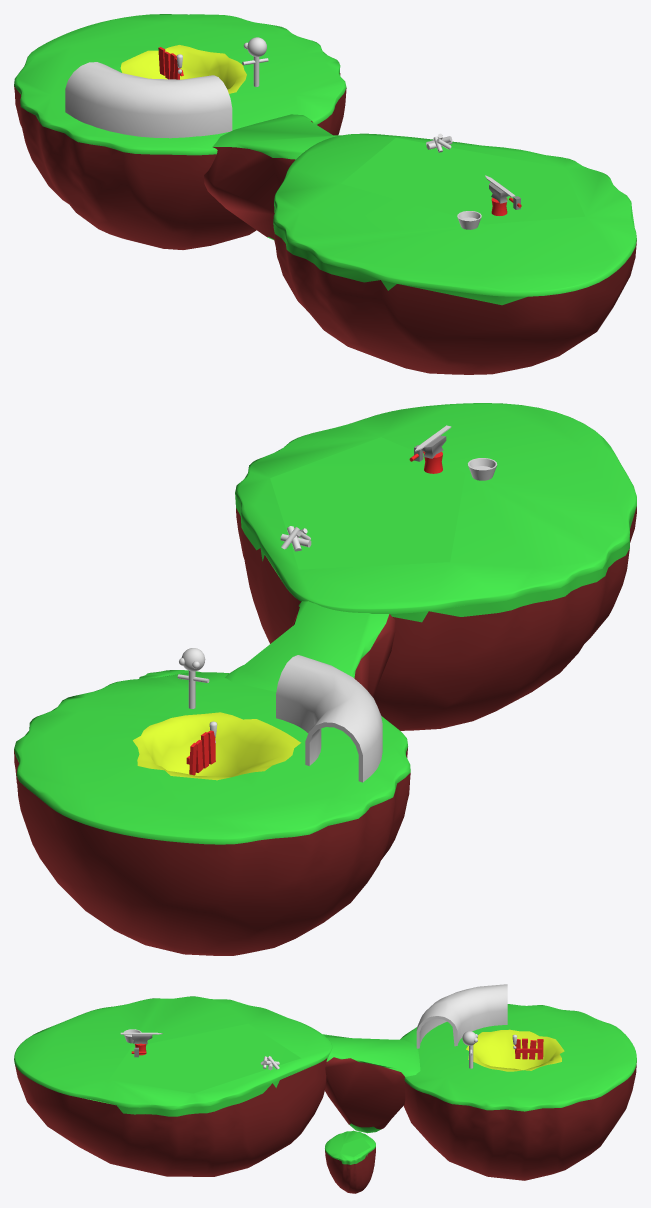
The model's file is KnotDemo_island.fbx.
3 views of the same model, one above another, from view 1: azimuth 30°, elevation 25°; view 2: azimuth 150°, elevation 25°; view 3: azimuth 270°, elevation 25° (orthographic). The views are drawn at different scales.
Parts seen in each view (by area): view 1: KnotDemo_island_3, KnotDemo_island_0, KnotDemo_island_tunnel, KnotDemo_island_1, KnotDemo_dummy, KnotDemo_fence_0; view 2: KnotDemo_island_3, KnotDemo_island_0, KnotDemo_island_1, KnotDemo_island_tunnel, KnotDemo_fence_0, KnotDemo_dummy; view 3: KnotDemo_island_3, KnotDemo_island_0, KnotDemo_island_1, KnotDemo_island_tunnel, KnotDemo_island_4, KnotDemo_fence_0.
Boxes of the visible parts, x1,y1,x2,y2 form: KnotDemo_island_3: (273, 133, 636, 374); KnotDemo_island_0: (14, 14, 346, 249); KnotDemo_island_tunnel: (65, 62, 232, 138); KnotDemo_island_1: (204, 114, 340, 239); KnotDemo_dummy: (242, 37, 268, 86); KnotDemo_fence_0: (158, 47, 183, 79); KnotDemo_island_3: (235, 403, 636, 730); KnotDemo_island_0: (14, 672, 410, 955); KnotDemo_island_1: (225, 601, 395, 697); KnotDemo_island_tunnel: (276, 655, 382, 782); KnotDemo_fence_0: (186, 730, 215, 775); KnotDemo_dummy: (177, 648, 209, 708); KnotDemo_island_3: (14, 996, 332, 1176); KnotDemo_island_0: (400, 1004, 636, 1180); KnotDemo_island_1: (323, 1034, 420, 1133); KnotDemo_island_tunnel: (416, 984, 507, 1048); KnotDemo_island_4: (325, 1130, 375, 1193); KnotDemo_fence_0: (515, 1038, 543, 1059).
Size of the model in its own units: 241 by 512 by 145.
